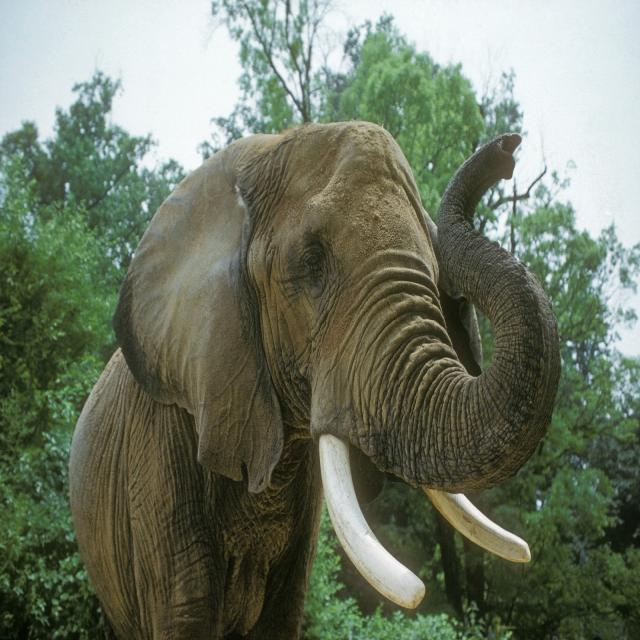Elephant: (68, 118, 562, 639)
